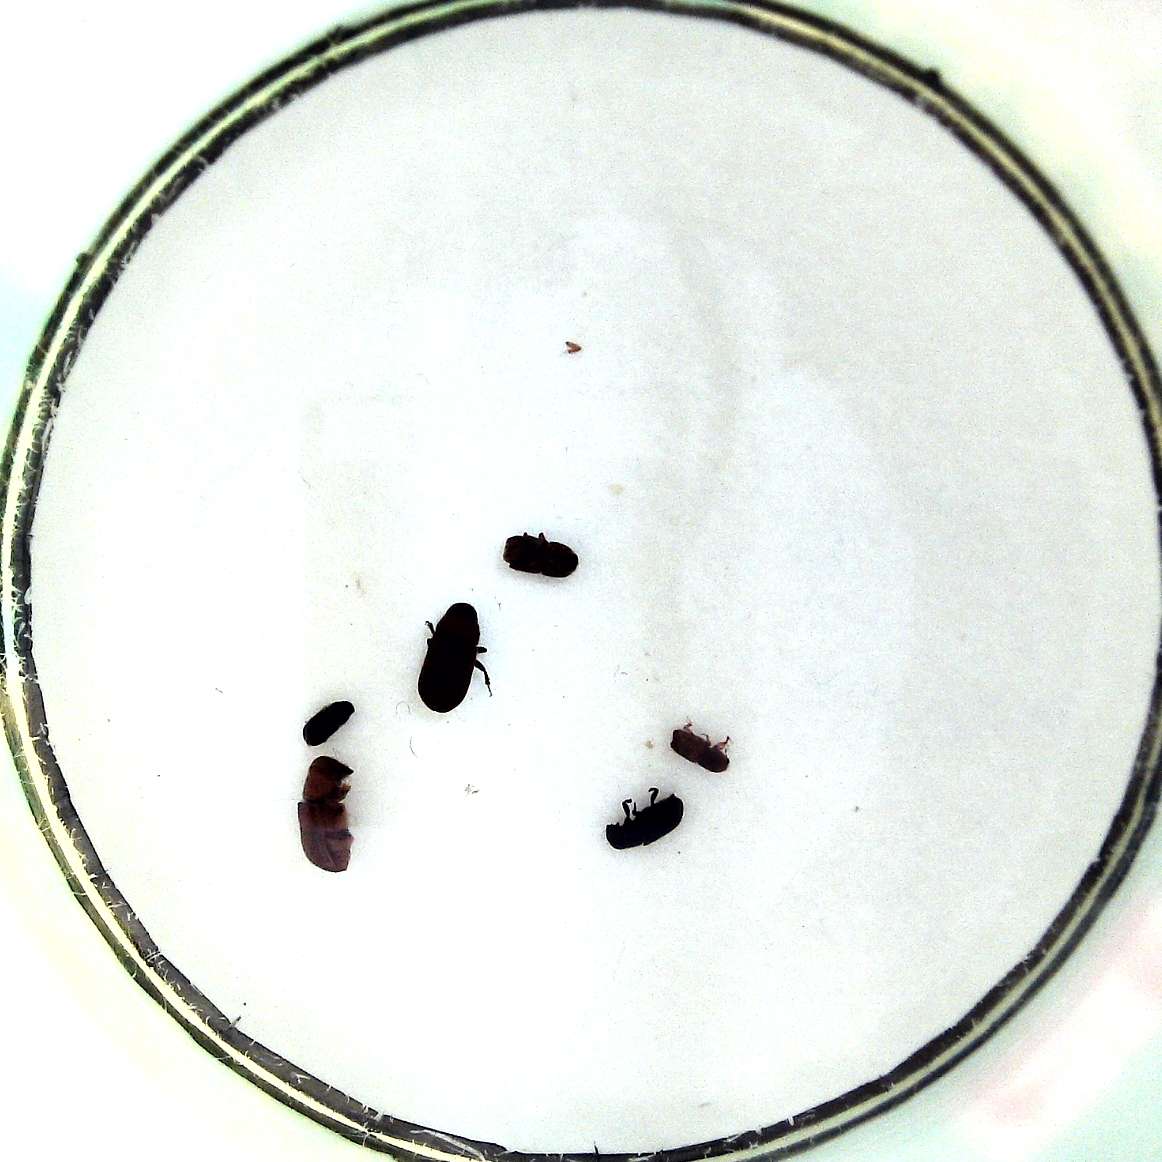Leconte: (415, 600, 489, 713), (297, 754, 361, 875)
Linnaeus: (497, 531, 582, 580)
acuminatus: (664, 723, 736, 777)
armandi: (605, 790, 687, 850)
coleoptera: (297, 698, 358, 749)
